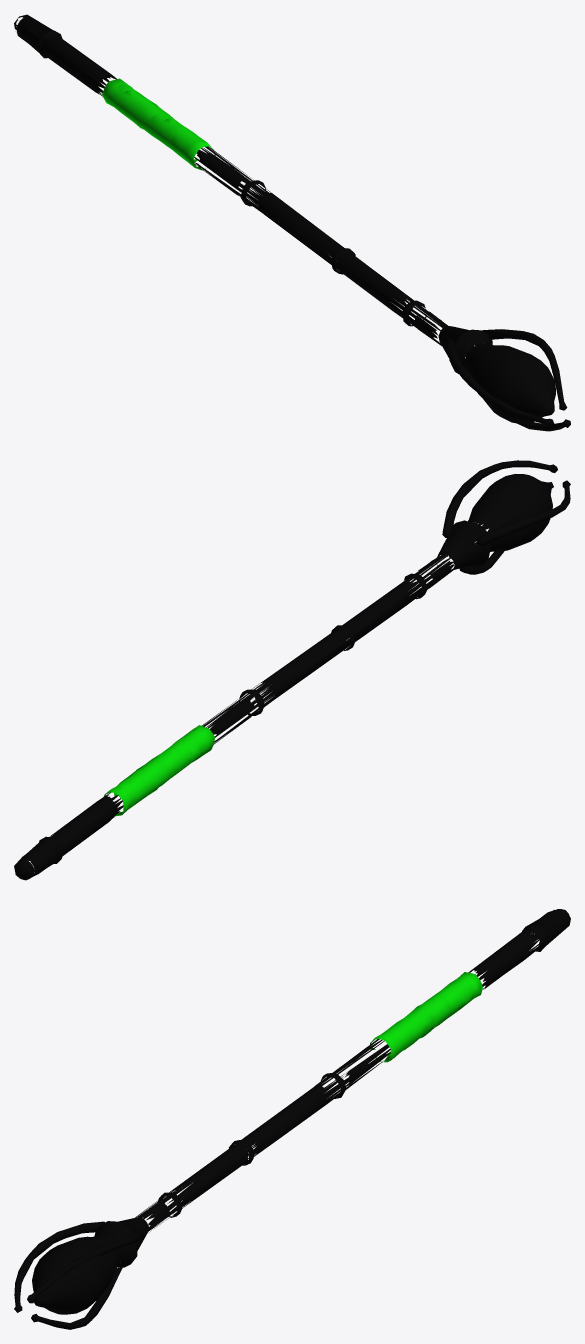
File: emberglass.glb
3 views of the same model, one above another, from view 1: azimuth 30°, elevation 25°; view 2: azimuth 150°, elevation 25°; view 3: azimuth 330°, elevation 25° (orthographic).
Visible parts, largest first — view 1: emberglass; view 2: emberglass; view 3: emberglass.
Boxes of the visible parts, box(x1,y1,x2,y2) form: emberglass: box(14, 14, 570, 431); emberglass: box(14, 460, 570, 880); emberglass: box(14, 909, 570, 1329).
Size of the model in its own units: 0.1419 by 0.1398 by 1.67.
